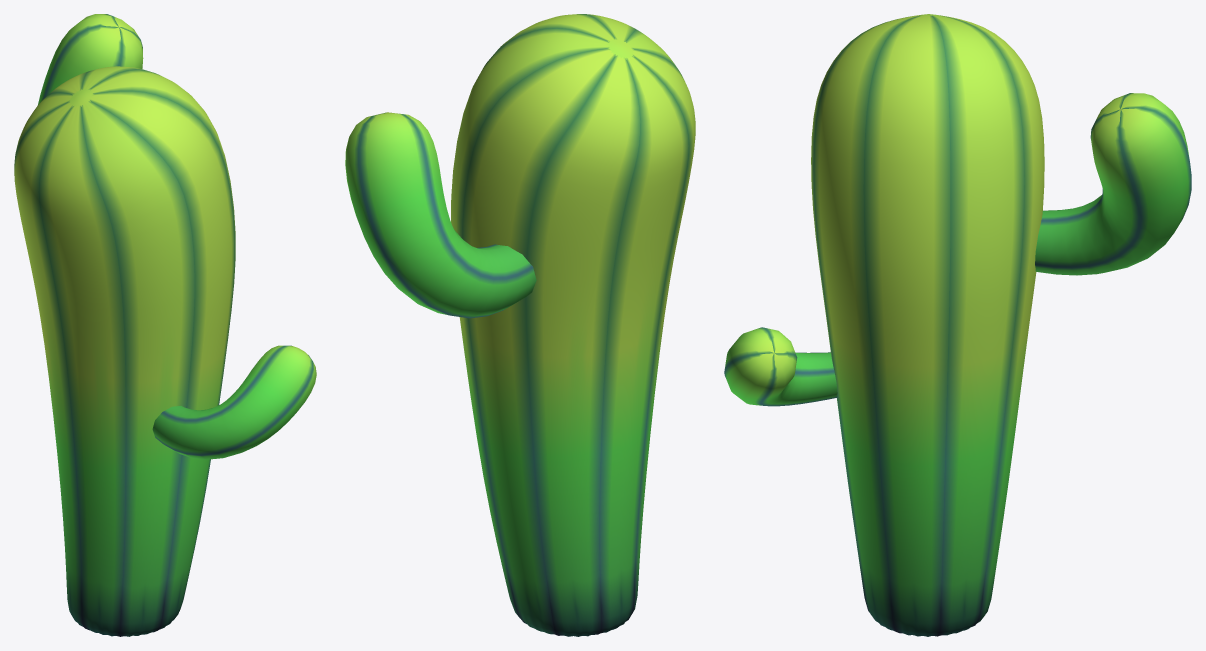
The model's file is Cactus.fbx.
The picture shows the model from 3 angles, left to right: view 1: azimuth 30°, elevation 25°; view 2: azimuth 150°, elevation 25°; view 3: azimuth 270°, elevation 25°; orthographic projection. The views are drawn at different scales.
Visible parts, largest first — view 1: Cactus_Mid.002, Arm_1.005, Arm_1.002; view 2: Cactus_Mid.002, Arm_1.002; view 3: Cactus_Mid.002, Arm_1.002, Arm_1.005.
Part boxes in pixels (x1,y1,x2,y2): Cactus_Mid.002: [14, 66, 235, 636]; Arm_1.005: [152, 345, 316, 459]; Arm_1.002: [37, 14, 143, 105]; Cactus_Mid.002: [451, 14, 695, 636]; Arm_1.002: [345, 112, 536, 318]; Cactus_Mid.002: [811, 14, 1044, 636]; Arm_1.002: [1035, 93, 1191, 275]; Arm_1.005: [724, 327, 837, 406].
Bounding box in the file's own units: 92.95 × 232 × 165.
